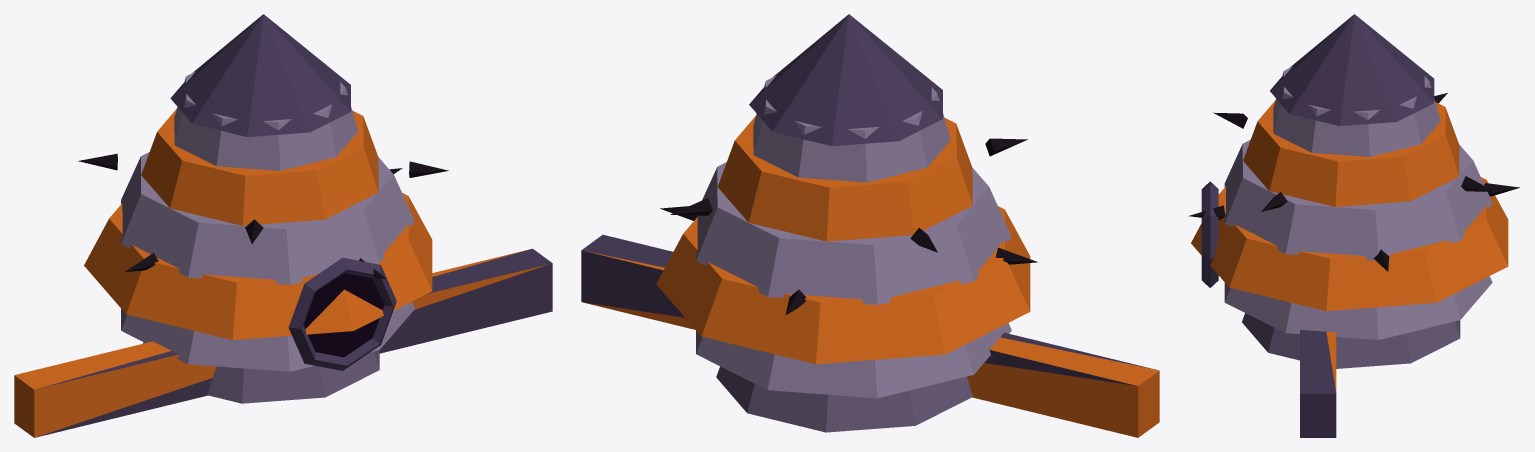
File: prop-nest.glb
The picture shows the model from 3 angles, left to right: view 1: azimuth 30°, elevation 25°; view 2: azimuth 150°, elevation 25°; view 3: azimuth 270°, elevation 25°; orthographic projection. The views are drawn at different scales.
Size of the model in its own units: 9 by 5.62 by 5.49.
